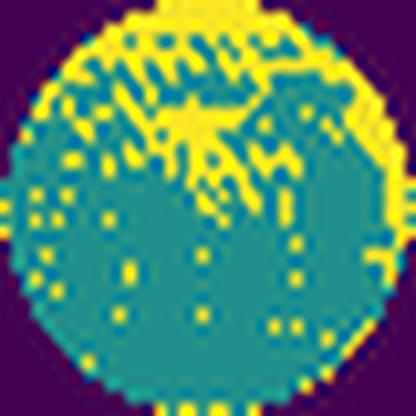Edge-Loc: (0, 0, 415, 273)
